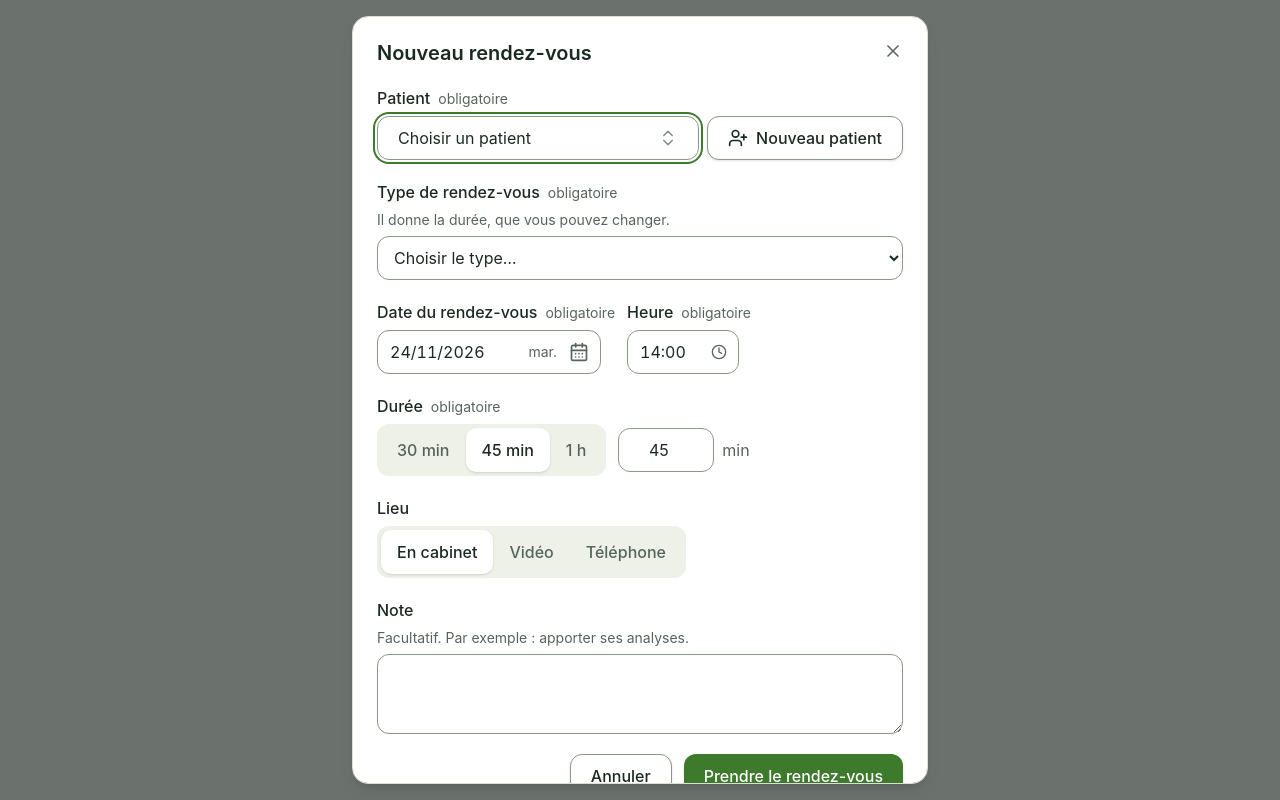
AppointmentFormDialog: type of appointment and practice (lot 15) › asks for the type of a new appointment
Click the button "Prendre le rendez-vous": (793, 776) [684,754,903,798]
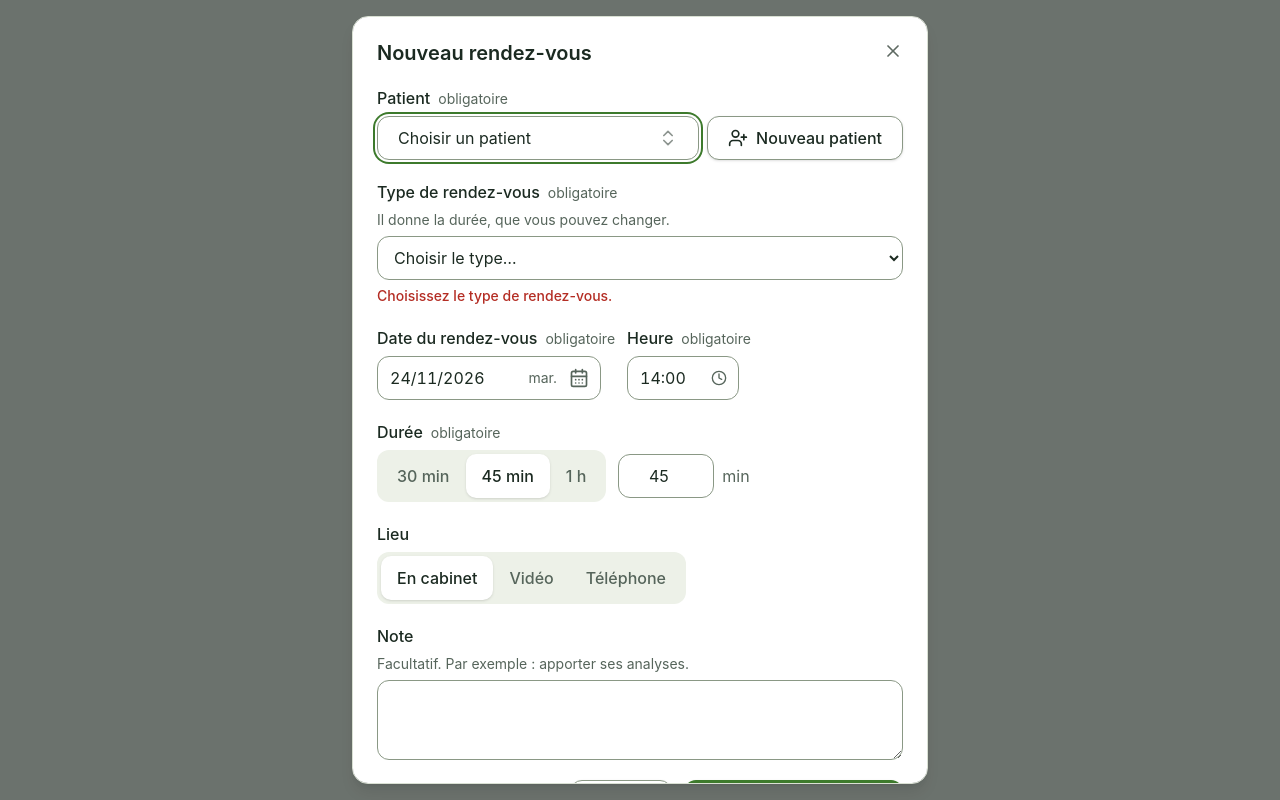
Now the text "Choisissez le type de rendez-vous." is shown, box [377,287,612,304]
